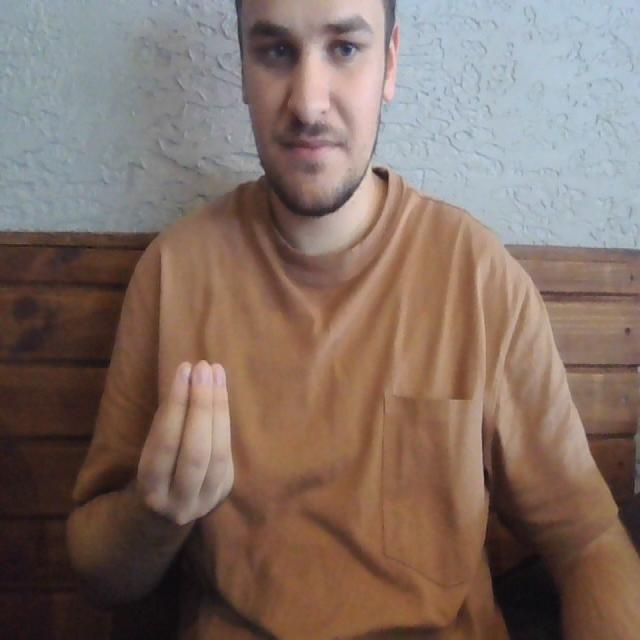iyi: (134, 352, 236, 528)
